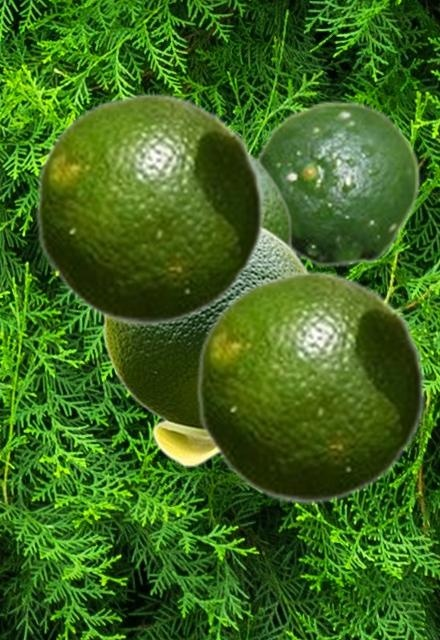calamansi: (34, 92, 265, 325), (195, 270, 426, 503), (103, 225, 311, 466), (255, 100, 420, 267), (252, 151, 292, 246)
